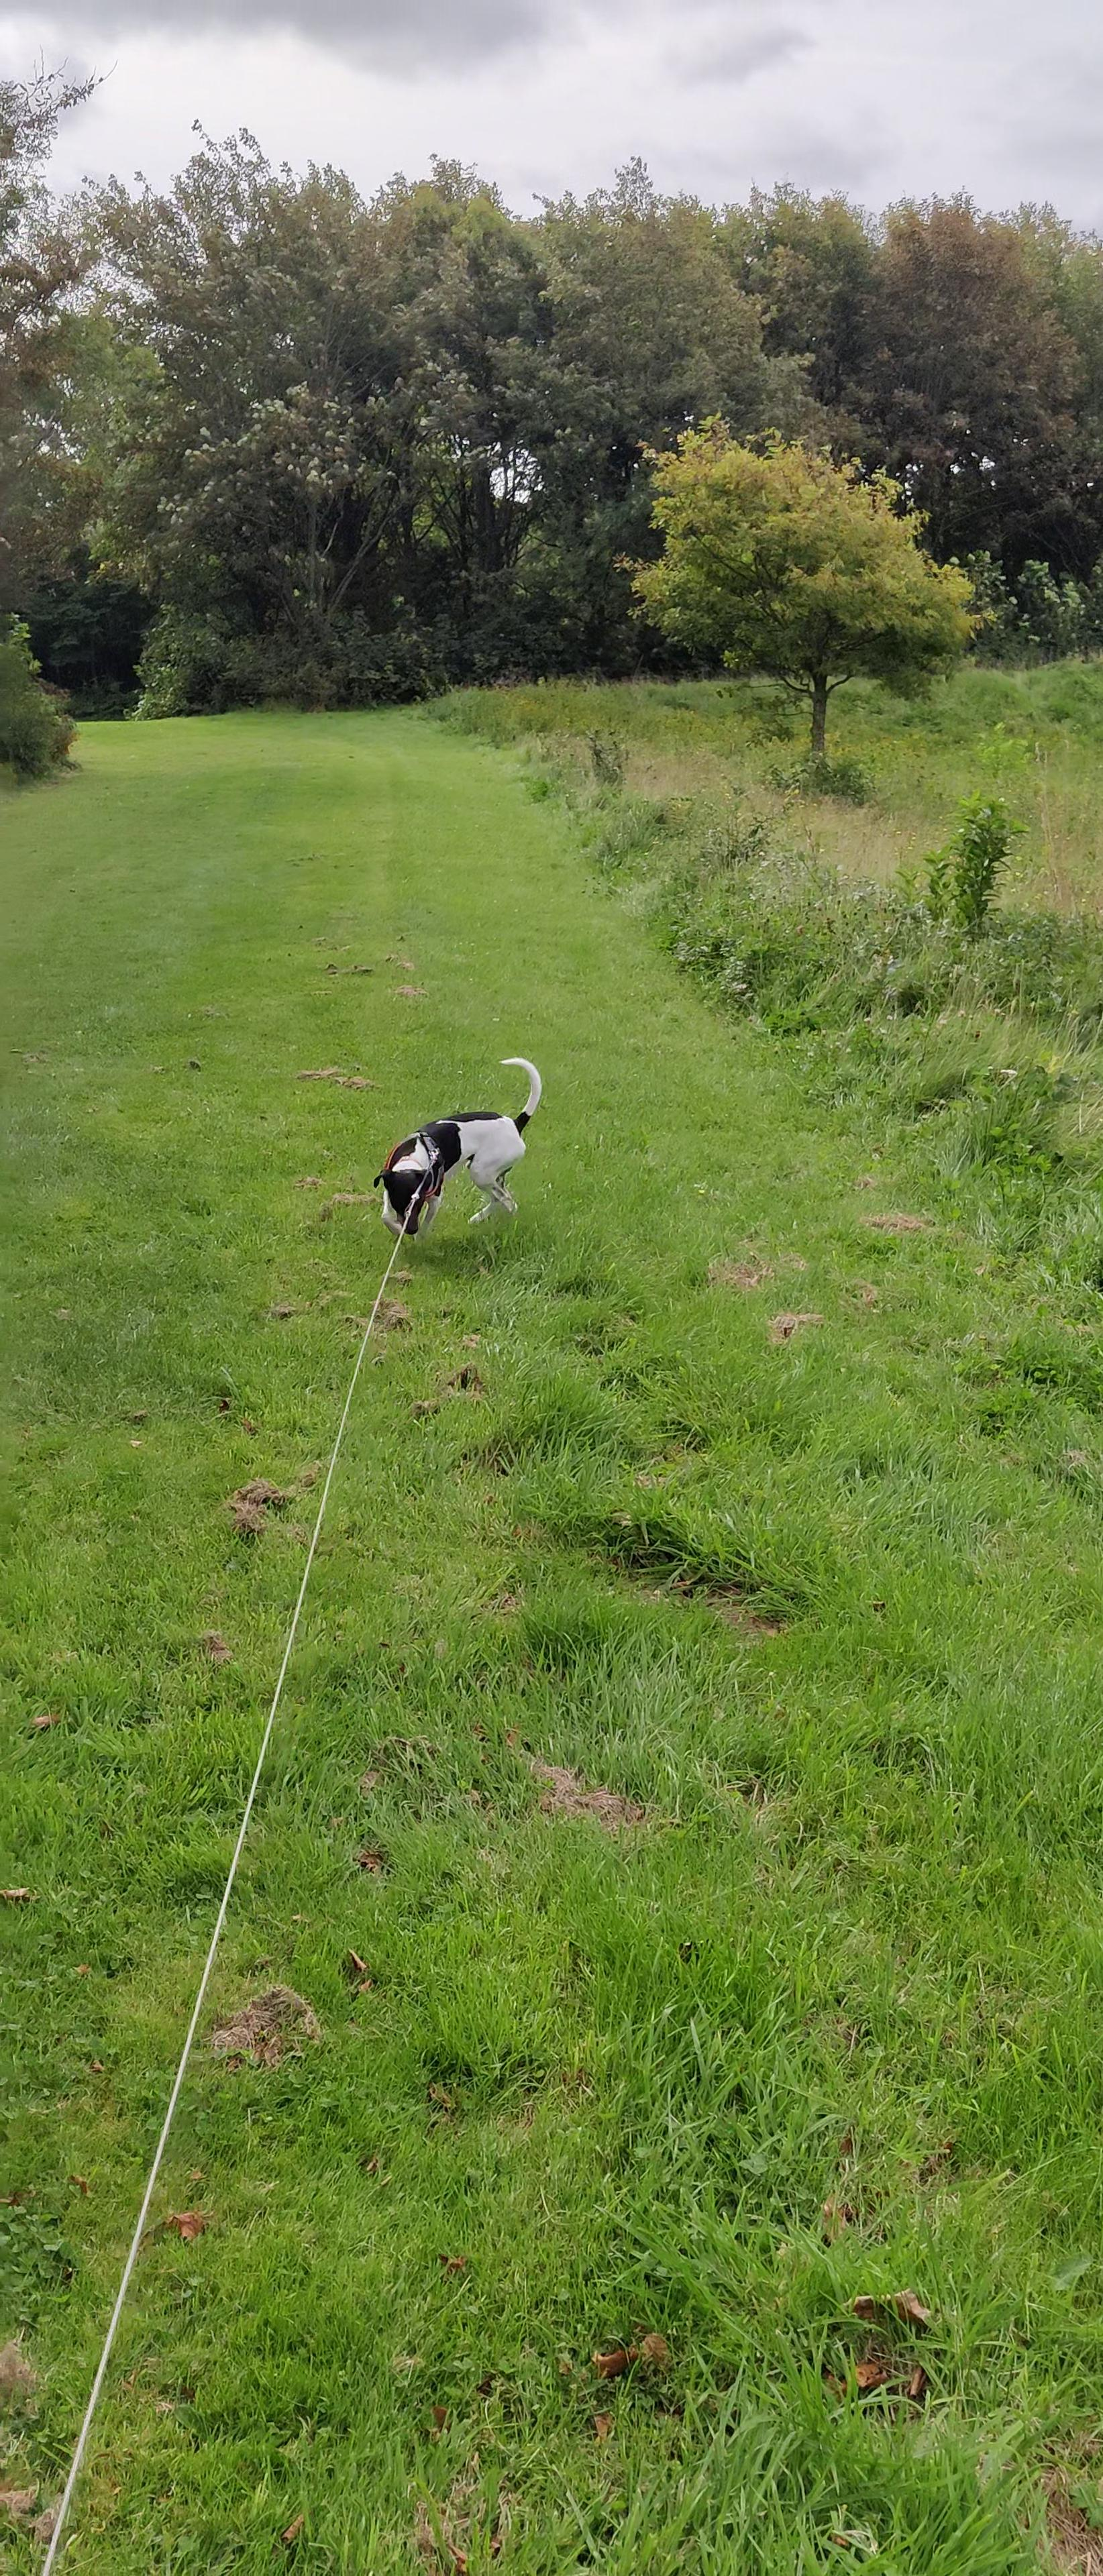Dog: (368, 1053, 544, 1247)
